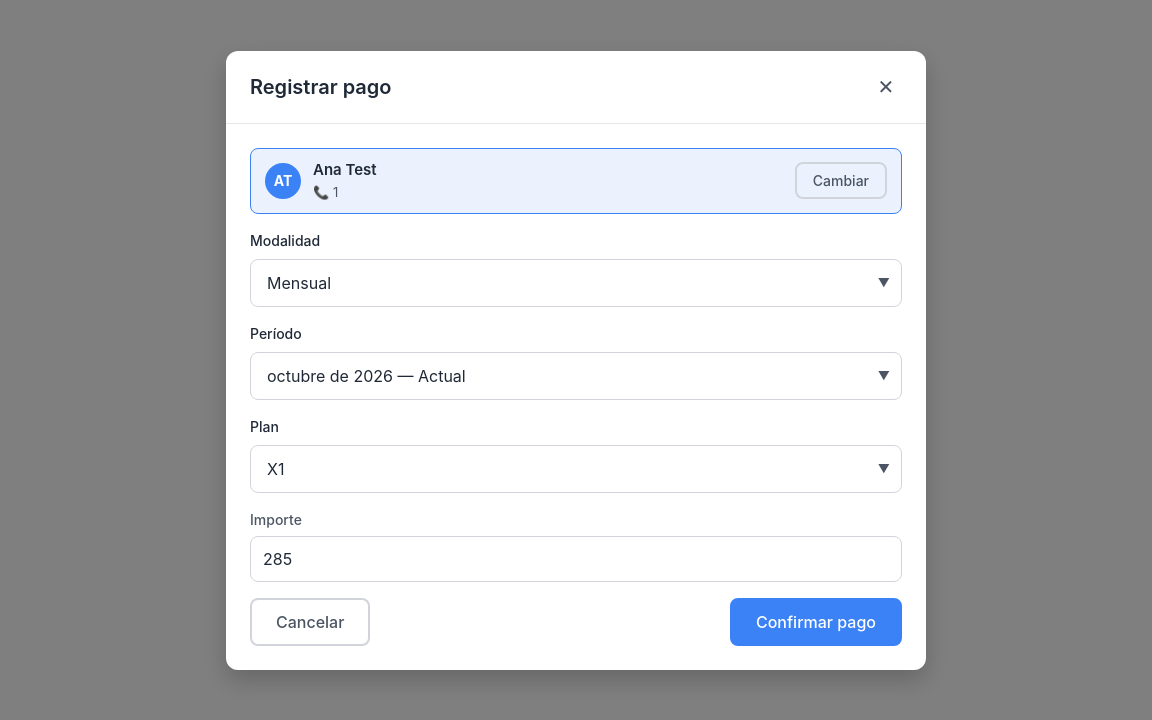
respeta el importe persistido de una obligación existente
Expected: the number field labelled "Importe" holds "285", left=250, top=536, right=902, bottom=582
Select "X2" in the dropdown labelled "Plan". click: (576, 468)
box: left=250, top=444, right=902, bottom=492
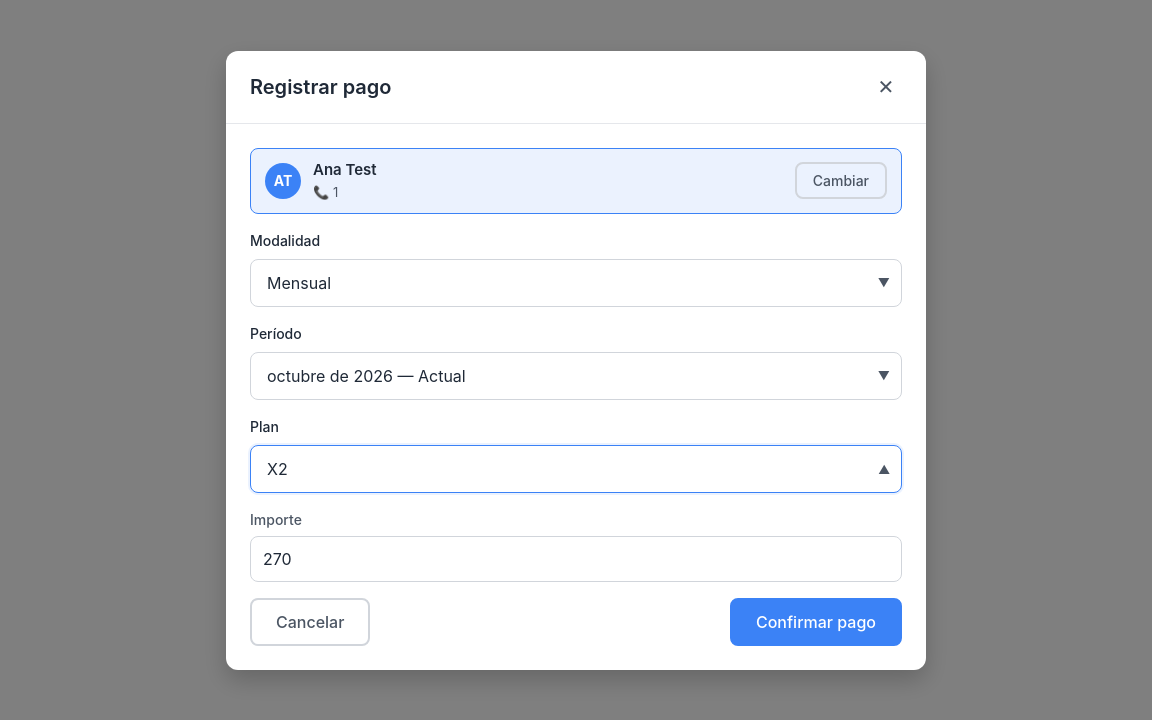
Now the number field labelled "Importe" holds "270", box left=250, top=536, right=902, bottom=582
